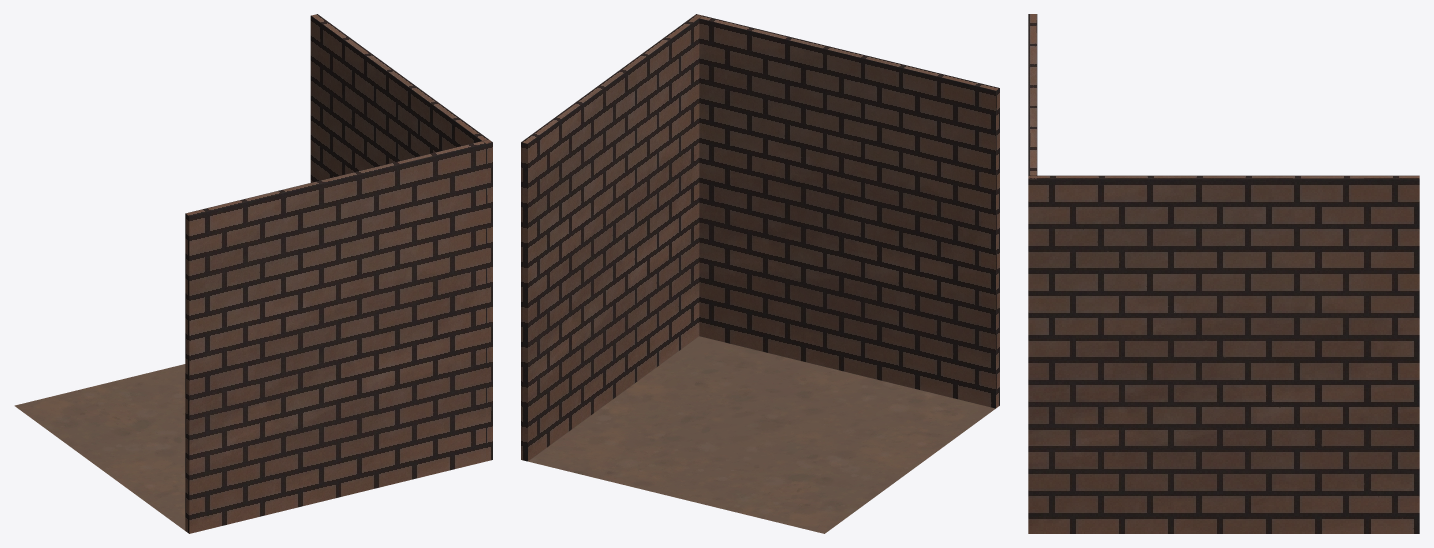
Rendered from cornerRight.glb.
The picture shows the model from 3 angles, left to right: view 1: azimuth 30°, elevation 25°; view 2: azimuth 150°, elevation 25°; view 3: azimuth 270°, elevation 25°; orthographic projection. The views are drawn at different scales.
Visible parts, largest first — view 1: cornerRight-col; view 2: cornerRight-col; view 3: cornerRight-col.
Part boxes in pixels (x1,y1,x2,y2): cornerRight-col: (14, 14, 492, 533); cornerRight-col: (521, 14, 999, 533); cornerRight-col: (1028, 14, 1419, 533).
Bounding box in the file's own units: 4 × 4 × 4.
Materials: 1 (1 with a texture image).
